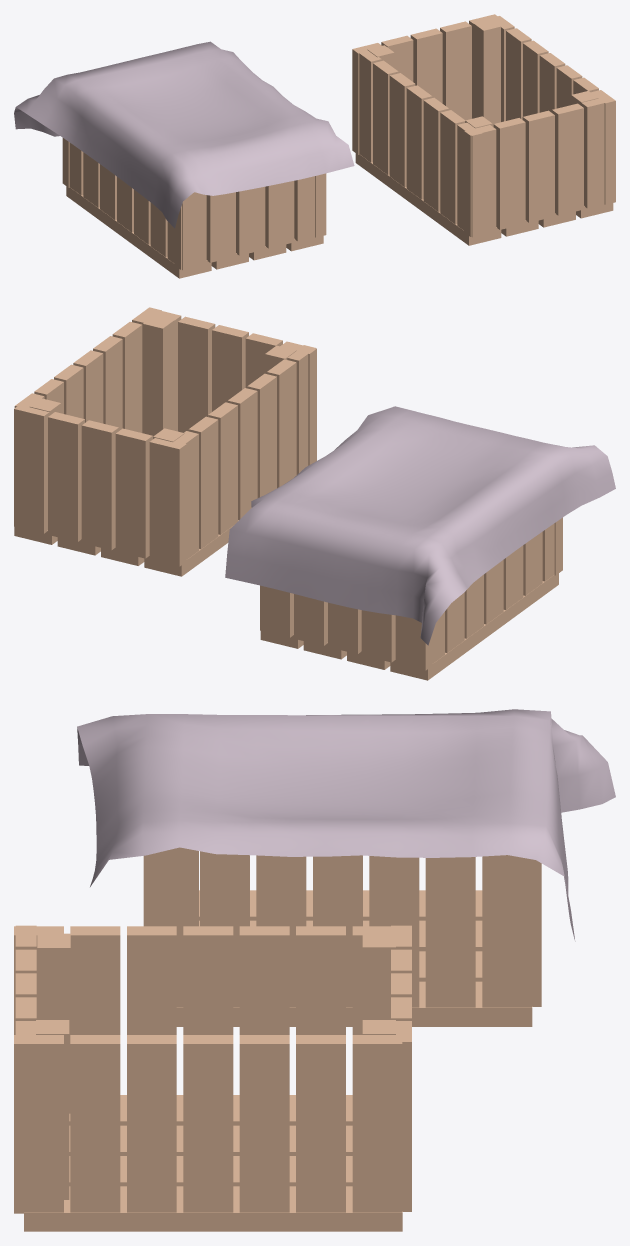
The picture shows the model from 3 angles, top to bottom: view 1: azimuth 30°, elevation 25°; view 2: azimuth 150°, elevation 25°; view 3: azimuth 270°, elevation 25°; orthographic projection. The views are drawn at different scales.
Visible parts, largest first — view 1: Plane.002, Cube.025, Cube.026, Cube.007, Cube.028, Cube.027, Cube.015, Cube.023, Cube.029, Cube.012, Cube.013, Cube.014; view 2: Plane.002, Cube.027, Cube.026, Cube.025, Cube.014, Cube.028, Cube.015, Cube.022, Cube.012, Cube.029; view 3: Plane.002, Cube.028, Cube.013, Cube.026, Cube.029, Cube.012, Cube.027, Cube.024, Cube.021, Cube.025, Cube.022, Cube.014.
Part boxes in pixels (x1,y1,x2,y2): Plane.002: (14, 41, 354, 228); Cube.025: (464, 98, 610, 236); Cube.026: (359, 51, 482, 237); Cube.007: (174, 176, 314, 269); Cube.028: (489, 16, 615, 204); Cube.027: (352, 14, 499, 154); Cube.015: (69, 142, 193, 269); Cube.023: (473, 19, 500, 126); Cube.029: (355, 153, 613, 245); Cube.012: (66, 186, 323, 278); Cube.013: (315, 173, 326, 237); Cube.014: (62, 138, 69, 187); Plane.002: (225, 406, 615, 645); Cube.027: (14, 406, 186, 566); Cube.026: (175, 345, 316, 559); Cube.025: (147, 308, 316, 465); Cube.014: (260, 585, 432, 670); Cube.028: (14, 307, 161, 433); Cube.015: (432, 523, 554, 663); Cube.022: (143, 315, 174, 436); Cube.012: (260, 573, 558, 680); Cube.029: (14, 520, 238, 576); Plane.002: (77, 709, 615, 941); Cube.028: (14, 1035, 402, 1213); Cube.013: (143, 847, 531, 1007); Cube.026: (14, 926, 390, 1034); Cube.029: (24, 1095, 402, 1231); Cube.012: (176, 890, 532, 1026); Cube.027: (391, 925, 411, 1211); Cube.024: (37, 933, 70, 1113); Cube.021: (362, 933, 395, 1019); Cube.025: (15, 925, 36, 1041); Cube.022: (36, 1020, 69, 1199); Cube.014: (532, 859, 541, 1006).
Size of the model in its own units: 400 by 105 by 289.
